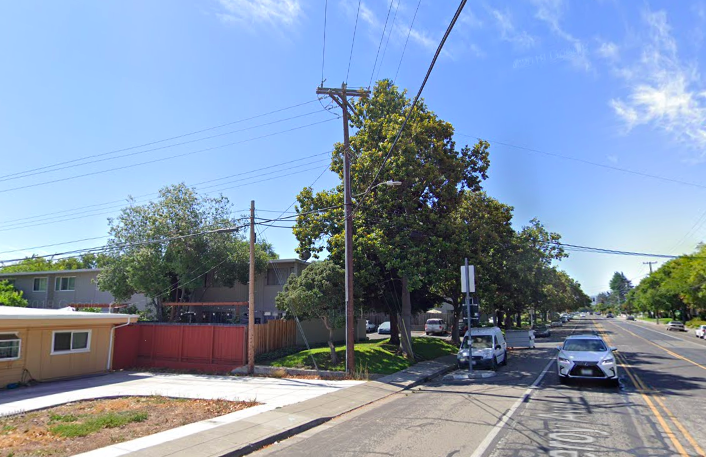utility_pole: (310, 72, 376, 137), (234, 191, 265, 242)
